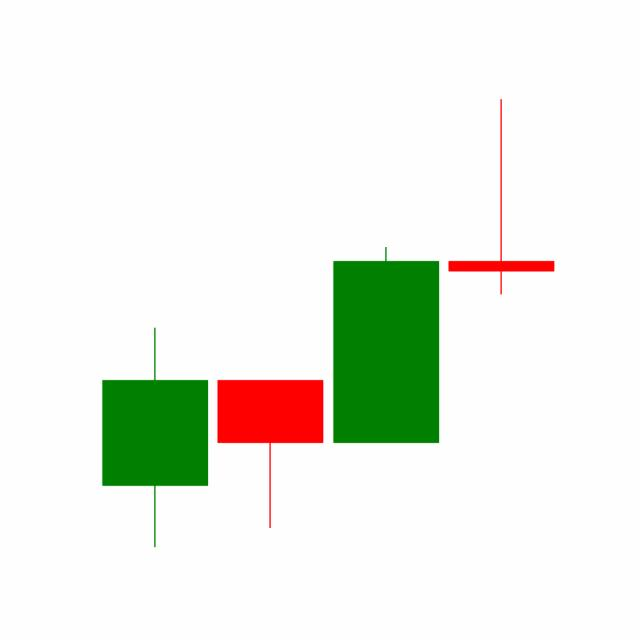Spinning Top: (443, 96, 559, 296)
